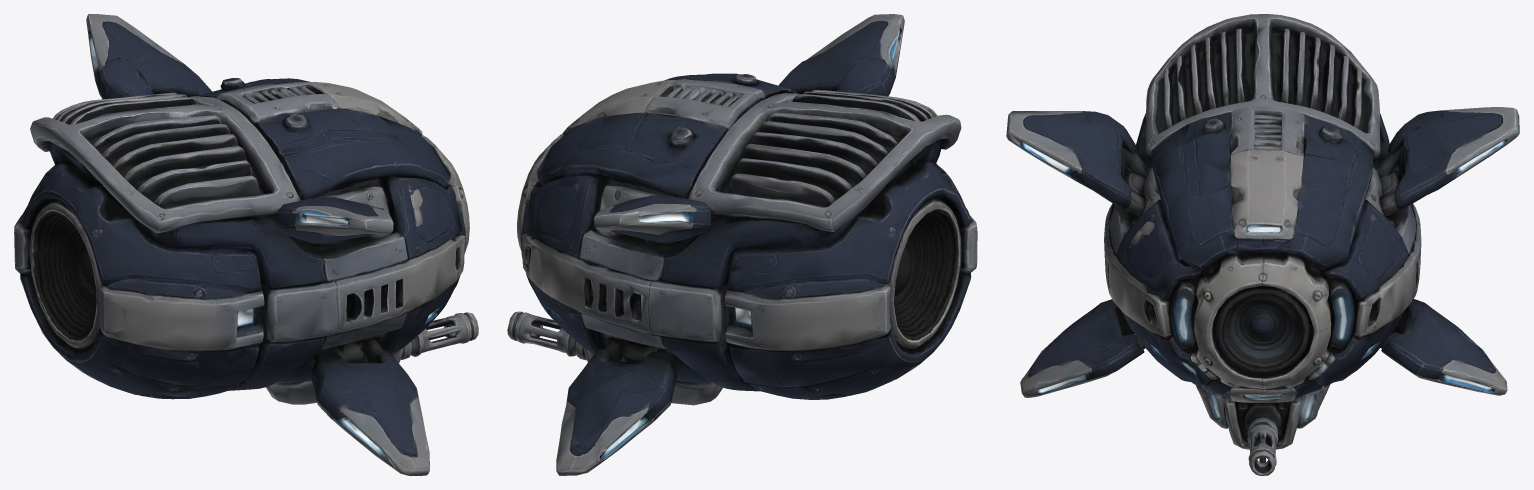
The model's file is drone.glb.
3 renders of one model, left to right at view 1: azimuth 30°, elevation 25°; view 2: azimuth 150°, elevation 25°; view 3: azimuth 270°, elevation 25°, orthographic. The views are drawn at different scales.
Visible parts, largest first — view 1: tripo_node_0bca95ec-5de1-4626-b21e-efaaec57d517; view 2: tripo_node_0bca95ec-5de1-4626-b21e-efaaec57d517; view 3: tripo_node_0bca95ec-5de1-4626-b21e-efaaec57d517.
Boxes of the visible parts, x1,y1,x2,y2 form: tripo_node_0bca95ec-5de1-4626-b21e-efaaec57d517: (14, 14, 478, 475); tripo_node_0bca95ec-5de1-4626-b21e-efaaec57d517: (507, 14, 977, 475); tripo_node_0bca95ec-5de1-4626-b21e-efaaec57d517: (1006, 14, 1519, 475).
Size of the model in its own units: 0.8508 by 0.6574 by 0.9995.
Materials: 1 (1 with a texture image).
